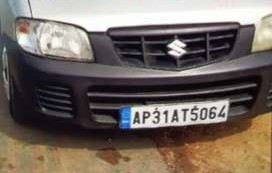AP31AT5064: (120, 99, 229, 129)
